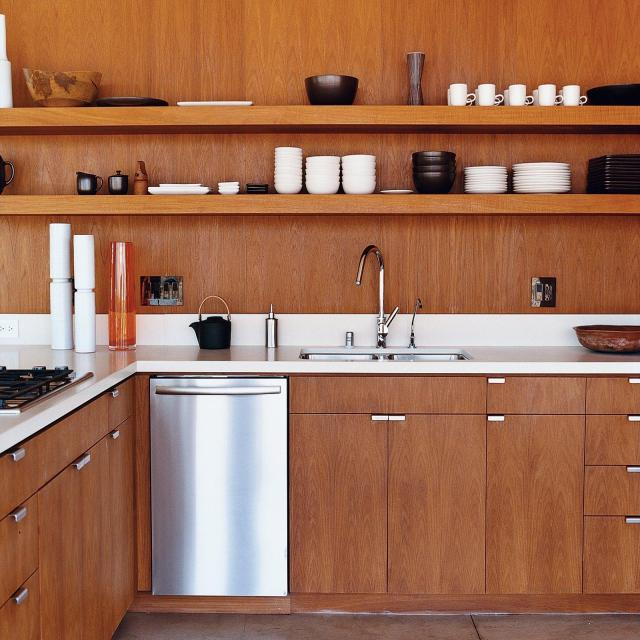dishwasher: (146, 368, 290, 598)
